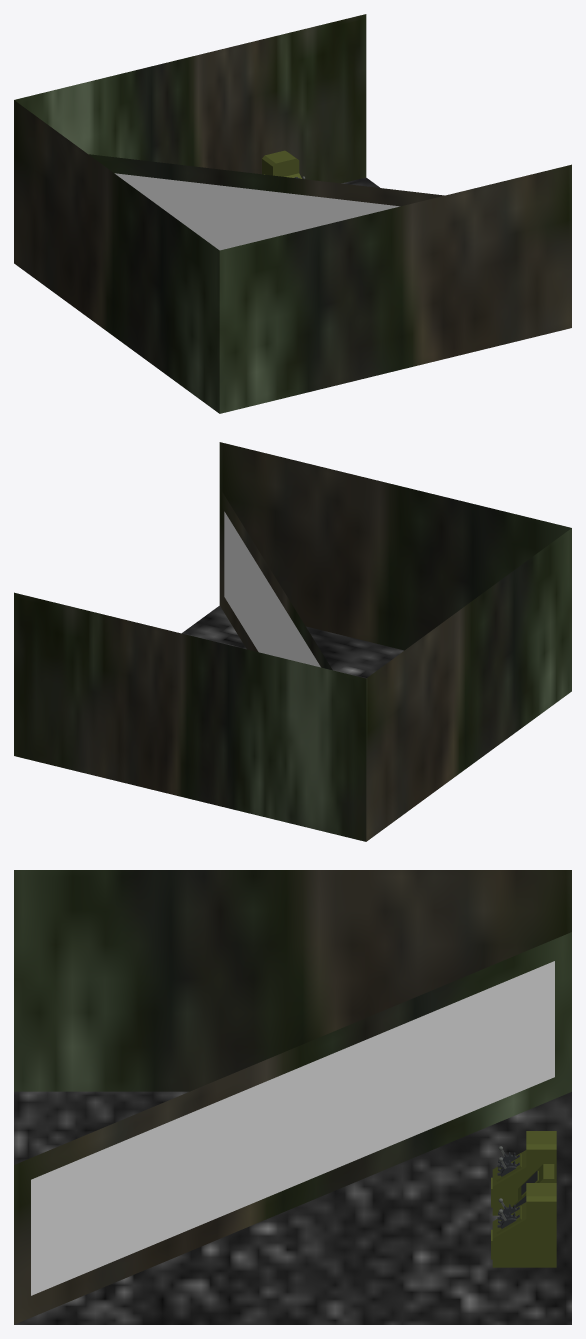
File: Fase3V1.fbx
3 views of the same model, one above another, from view 1: azimuth 30°, elevation 25°; view 2: azimuth 150°, elevation 25°; view 3: azimuth 270°, elevation 25° (orthographic). The views are drawn at different scales.
Visible parts, largest first — view 1: Plane.003, Plane.005, Plane.004, Plane.001, Plane, Painel 1.001; view 2: Plane.005, Plane.003, Plane.004, Plane.001, Plane.002, Plane; view 3: Plane.004, Plane.002, Plane.001, Plane, Painel 1.001, Painel 1.
Part boxes in pixels (x1,y1,x2,y2): Plane.003: (219, 164, 571, 413); Plane.005: (14, 14, 366, 183); Plane.004: (14, 100, 219, 413); Plane.001: (114, 173, 399, 250); Plane: (89, 154, 444, 206); Painel 1.001: (262, 150, 301, 178); Plane.005: (14, 592, 366, 841); Plane.003: (219, 442, 571, 650); Plane.004: (366, 528, 571, 841); Plane.001: (224, 511, 320, 667); Plane.002: (182, 605, 403, 678); Plane: (219, 488, 332, 670); Plane.004: (14, 870, 571, 1091); Plane.002: (14, 1091, 571, 1324); Plane.001: (31, 961, 554, 1295); Plane: (14, 932, 571, 1324); Painel 1.001: (491, 1183, 556, 1267); Painel 1: (491, 1131, 556, 1215).
Bounding box in the file's own units: 3341 × 1494 × 3380.
Materials: 6 (2 with a texture image).
